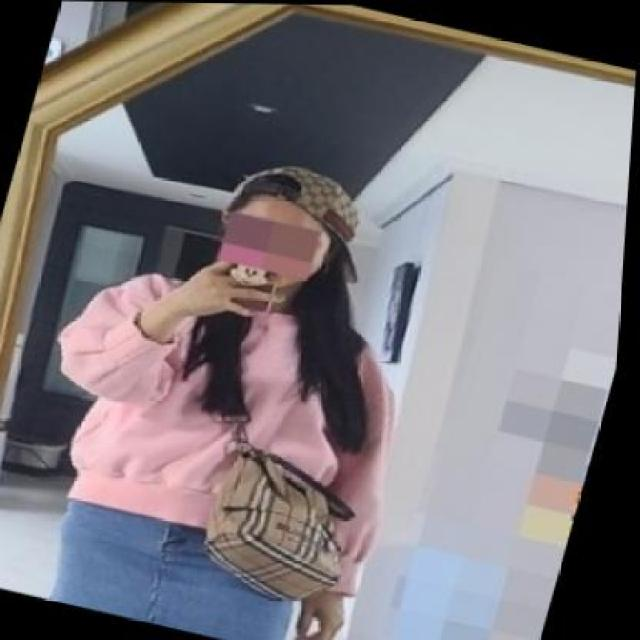hat: (227, 165, 362, 281)
